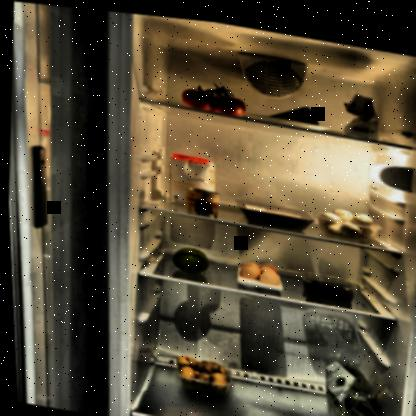apple: (167, 239, 211, 272)
blueberries: (298, 268, 361, 299)
cheese: (257, 91, 323, 121)
corn: (183, 182, 218, 213)
eggs: (235, 254, 282, 283)
mushrooms: (315, 198, 378, 237)
potato: (169, 348, 233, 394)
spinach: (315, 347, 394, 415)
tomato: (180, 79, 249, 116)
